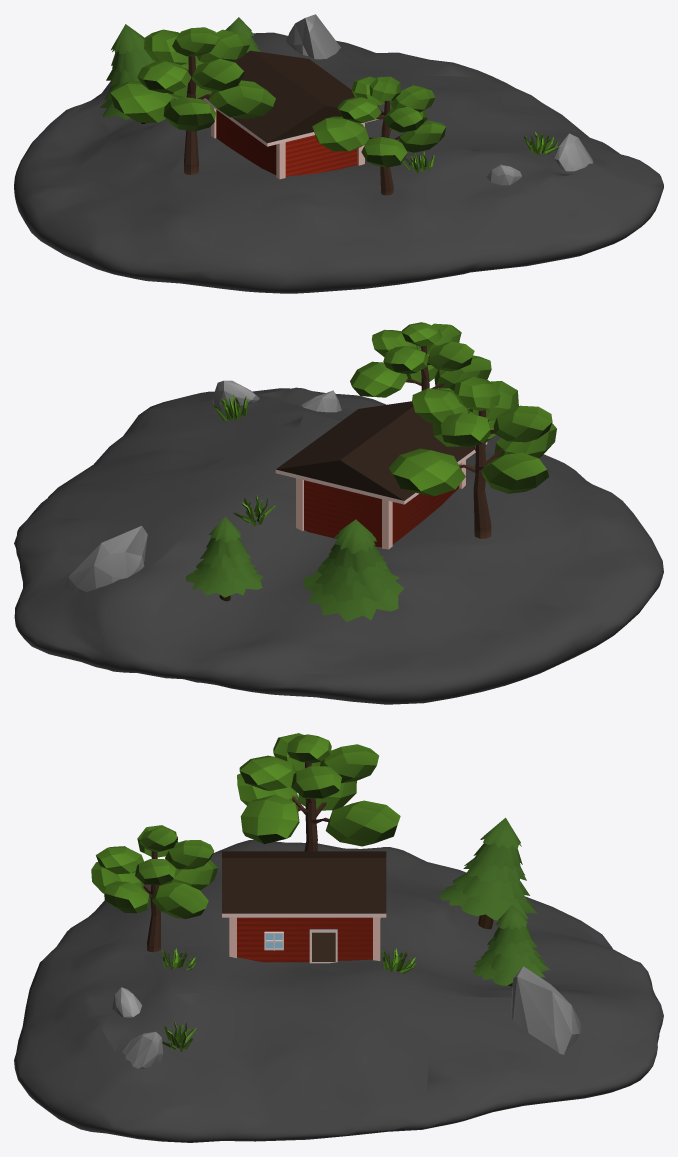
Rendered from Saari2.fbx.
3 renders of one model, top to bottom at view 1: azimuth 30°, elevation 25°; view 2: azimuth 150°, elevation 25°; view 3: azimuth 270°, elevation 25°, orthographic. The views are drawn at different scales.
Visible parts, largest first — view 1: Cube.002; view 2: Cube.002; view 3: Cube.002.
Boxes of the visible parts, x1=… form: Cube.002: x1=14, y1=14, x2=663, y2=293; Cube.002: x1=14, y1=322, x2=663, y2=704; Cube.002: x1=14, y1=733, x2=663, y2=1142.
Bounding box in the file's own units: 4739 × 1777 × 4654.
